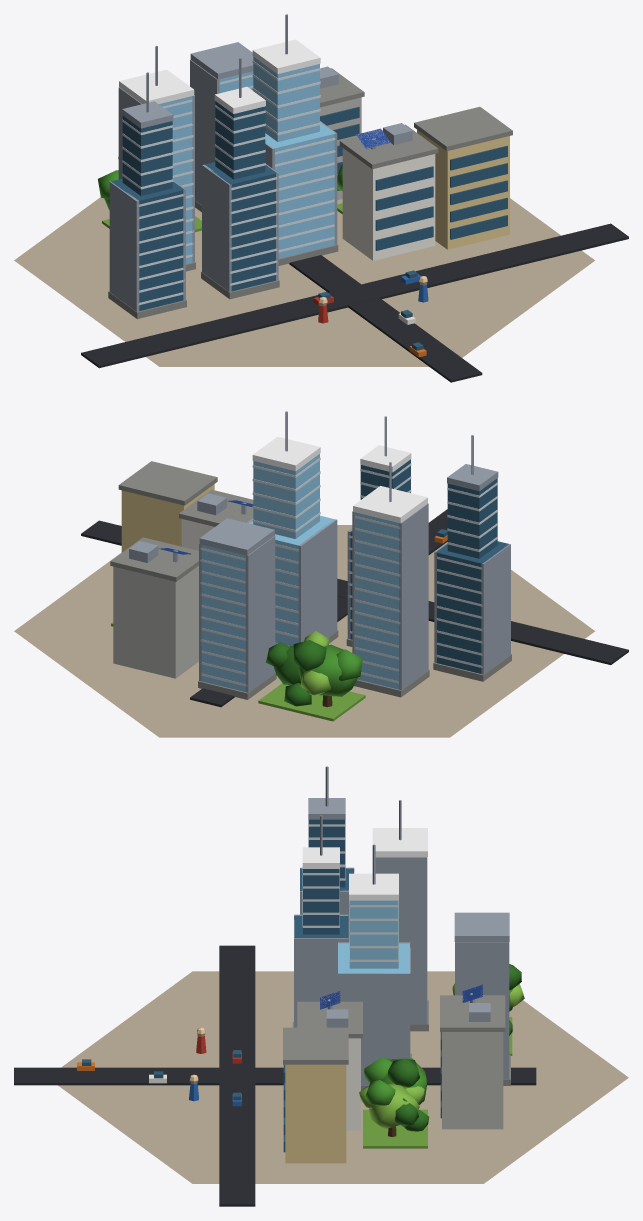
Rendered from city_3_3.fbx.
3 renders of one model, top to bottom at view 1: azimuth 30°, elevation 25°; view 2: azimuth 150°, elevation 25°; view 3: azimuth 270°, elevation 25°, orthographic.
Visible parts, largest first — view 1: city_3_3; view 2: city_3_3; view 3: city_3_3.
Part boxes in pixels (<box>): city_3_3: <box>14,14,628,382</box>; city_3_3: <box>14,411,628,737</box>; city_3_3: <box>14,766,628,1206</box>.
Bounding box in the file's own units: 221 × 92.68 × 222.
